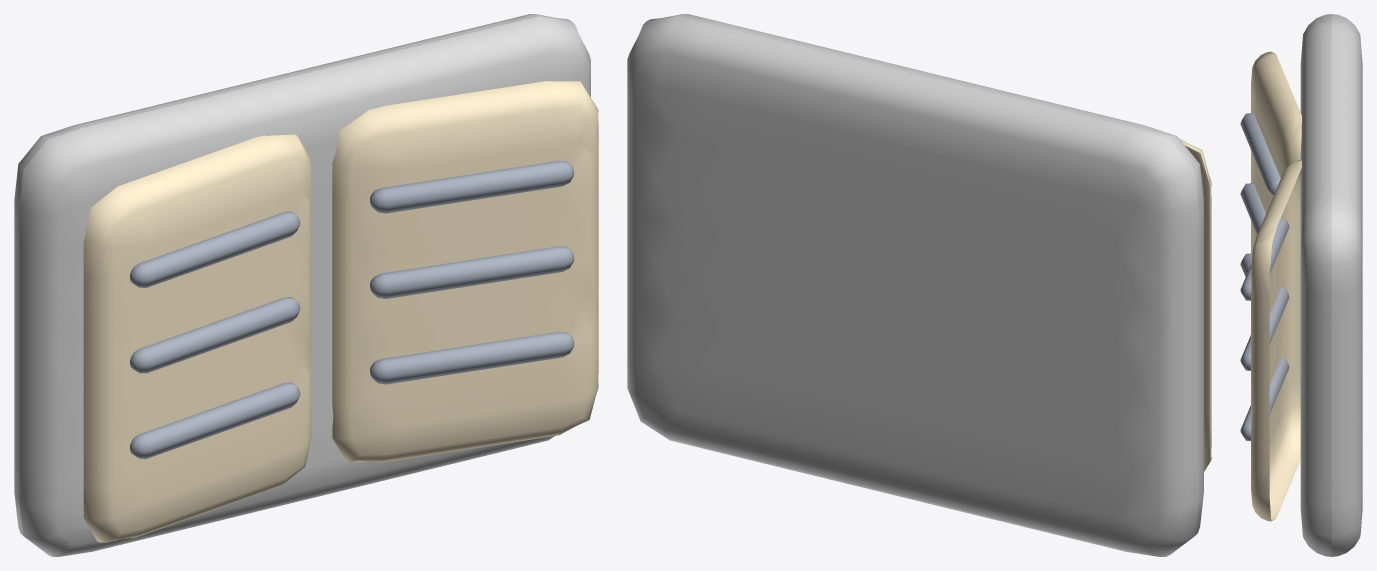
Rendered from book.glb.
3 renders of one model, left to right at view 1: azimuth 30°, elevation 25°; view 2: azimuth 150°, elevation 25°; view 3: azimuth 270°, elevation 25°, orthographic. The views are drawn at different scales.
Visible parts, largest first — view 1: book; view 2: book; view 3: book.
Part boxes in pixels (left/top/right/bottom): book: left=14, top=14, right=598, bottom=556; book: left=627, top=14, right=1211, bottom=556; book: left=1240, top=14, right=1362, bottom=556.
Size of the model in its own units: 1 by 0.7115 by 0.2278.
